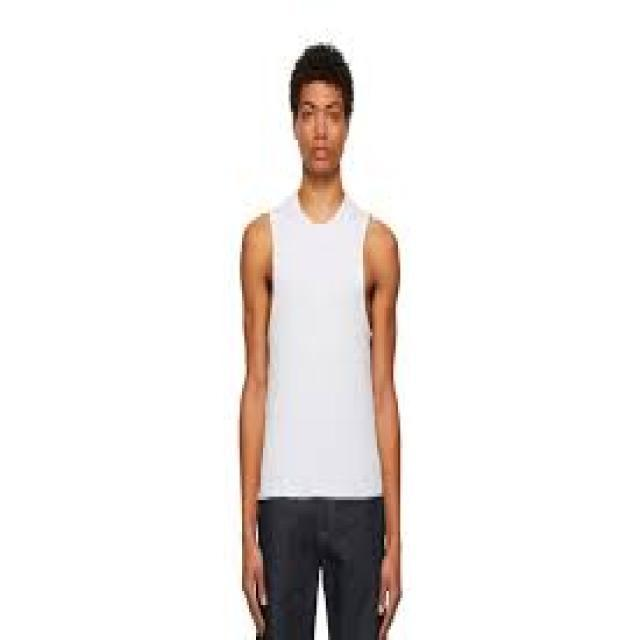no_vest: (258, 186, 386, 498)
